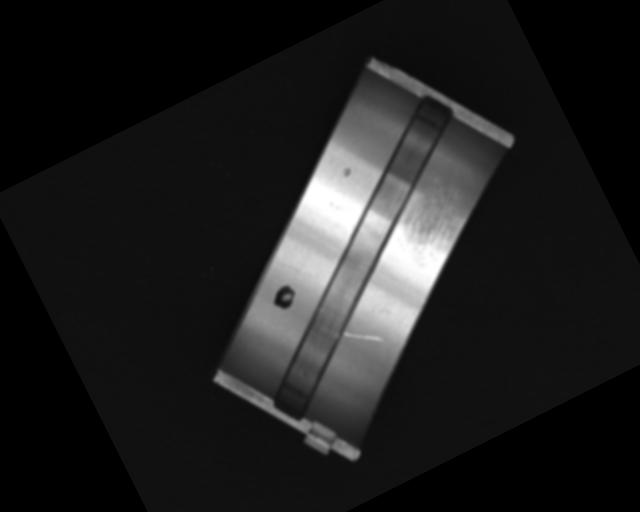blot: (267, 280, 302, 315)
bruise: (340, 166, 354, 180)
gap: (181, 91, 546, 428)
nick: (343, 316, 384, 354), (279, 252, 314, 288)
scratch: (385, 178, 487, 278)
